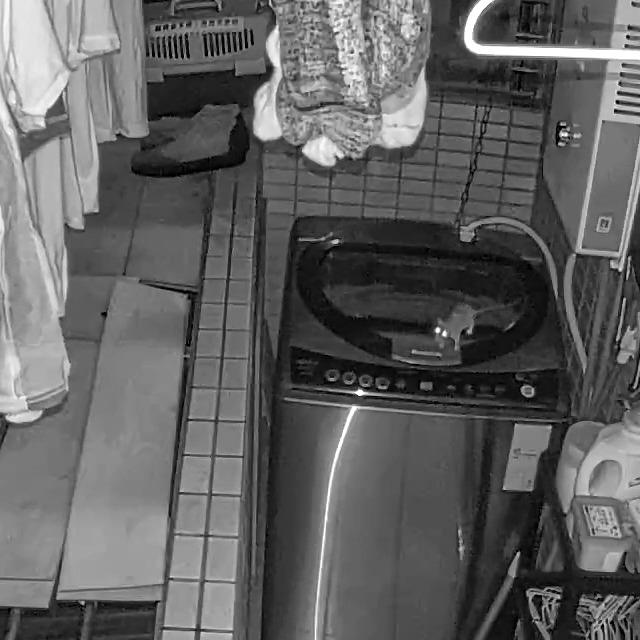rat: (433, 299, 522, 352)
